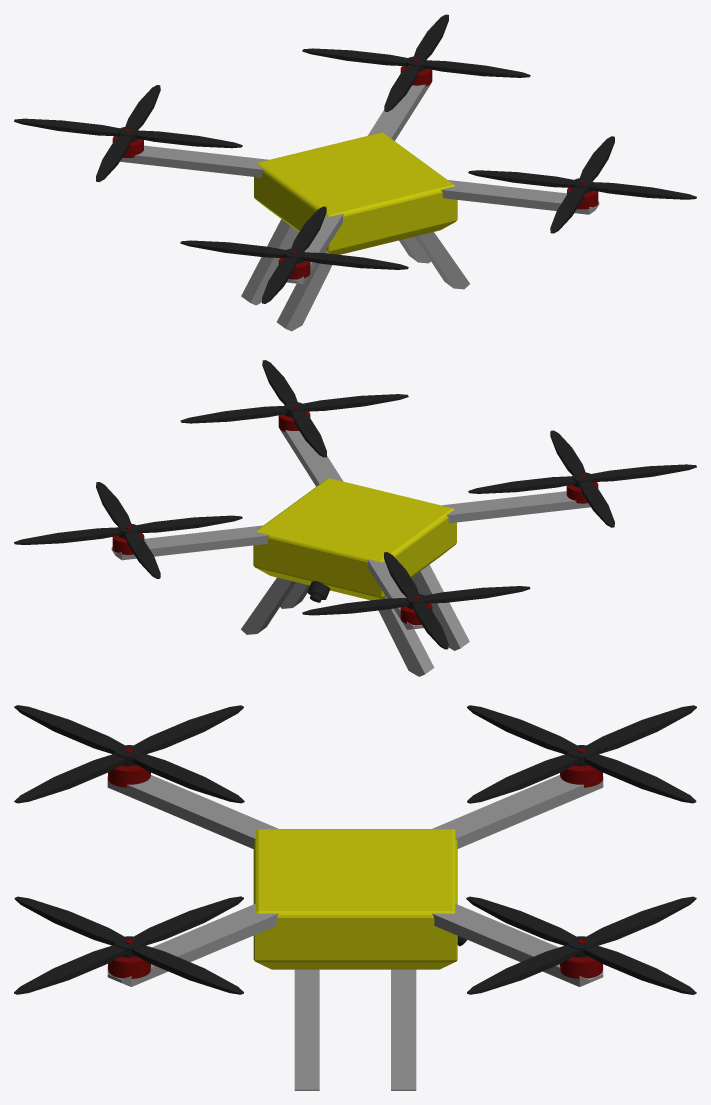
The model's file is dron.fbx.
3 views of the same model, one above another, from view 1: azimuth 30°, elevation 25°; view 2: azimuth 150°, elevation 25°; view 3: azimuth 270°, elevation 25° (orthographic). The views are drawn at different scales.
Parts seen in each view (by area): view 1: Cube.004, Cube.001, Cube.002, Cube.003; view 2: Cube.004, Cube.001, Cube.002, Cube.003; view 3: Cube.001, Cube.004, Cube.002, Cube.003.
Part boxes in pixels (bbox=[...]): Cube.004: bbox=[254, 132, 457, 254]; Cube.001: bbox=[14, 14, 696, 303]; Cube.002: bbox=[120, 84, 599, 331]; Cube.003: bbox=[112, 59, 598, 279]; Cube.004: bbox=[253, 478, 456, 600]; Cube.001: bbox=[14, 360, 696, 649]; Cube.002: bbox=[111, 429, 590, 676]; Cube.003: bbox=[112, 404, 598, 625]; Cube.001: bbox=[14, 705, 696, 994]; Cube.004: bbox=[253, 829, 457, 969]; Cube.002: bbox=[107, 775, 603, 1090]; Cube.003: bbox=[108, 748, 602, 978].
Bounding box in the file's own units: 1056 × 320 × 1056.
